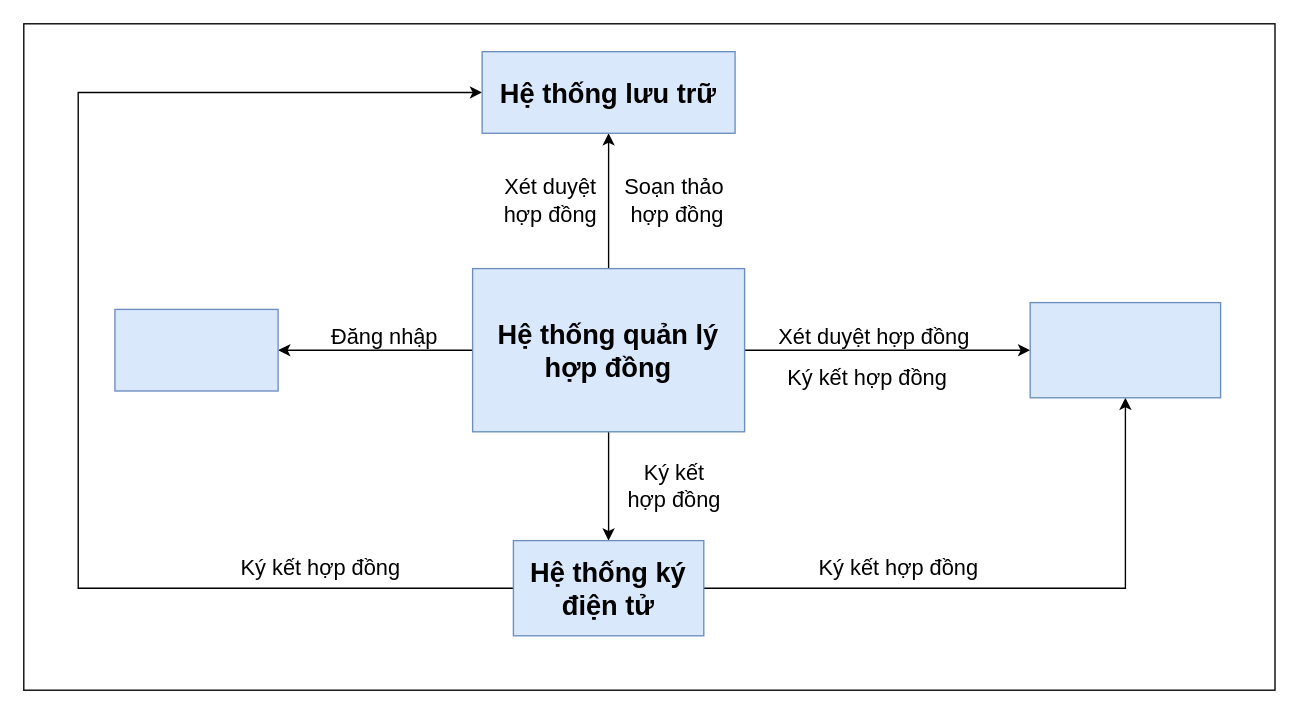
This 1299x714 diagram has some shape labels left out. The shapes that lost their labels are listed below. From the top down, each one's centre as x and y in pixels, then its label:
At [196,349]: "Hệ thống xác thực".
At [1125,349]: "Hệ thống thông báo".
